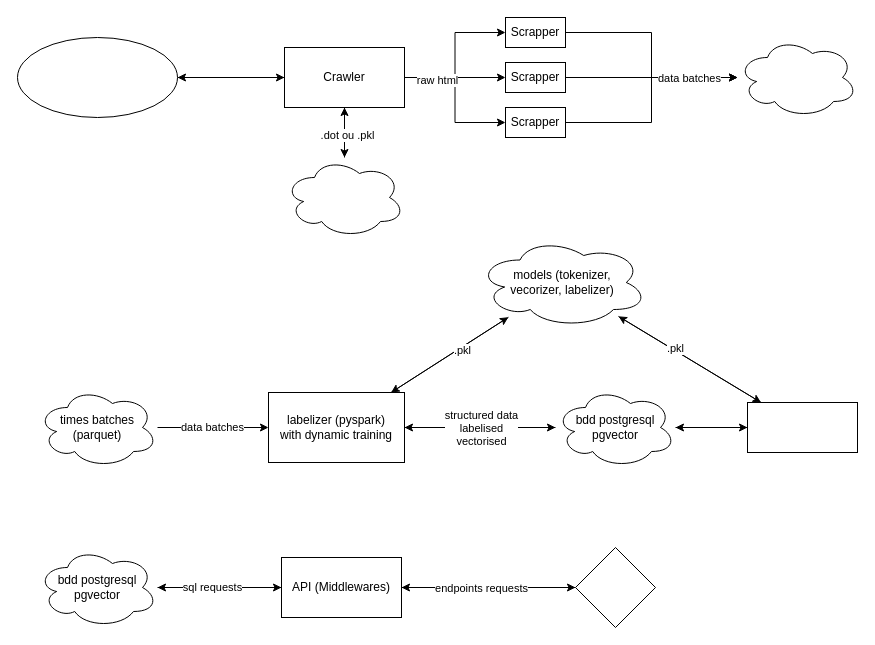
This 875x645 diagram has some shape labels left out. Here are the shapes that lost their labels. From the top down, the box of each, then its label:
(16, 36, 178, 118): Sources (furet du nord)
(736, 36, 858, 118): timed batches (parquet)
(284, 156, 404, 238): structure des sites (graphe)
(746, 402, 858, 452): vectorizer (BERT) with dynamic finetuning
(574, 546, 656, 628): App
